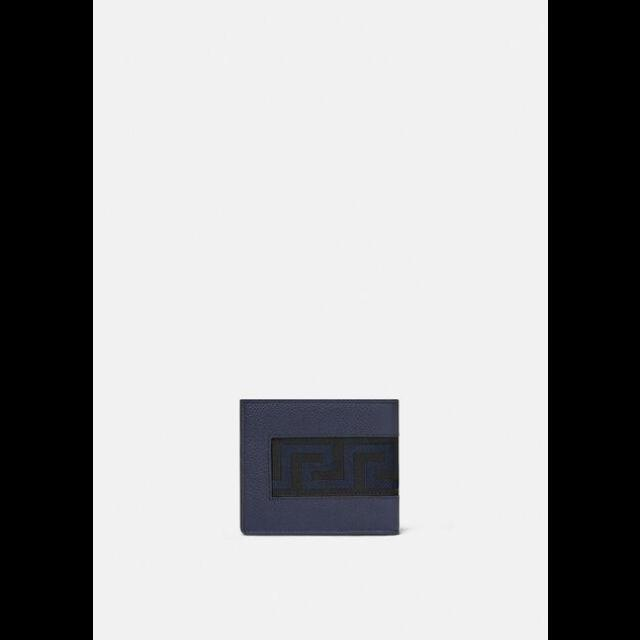wallet: (236, 395, 398, 537)
